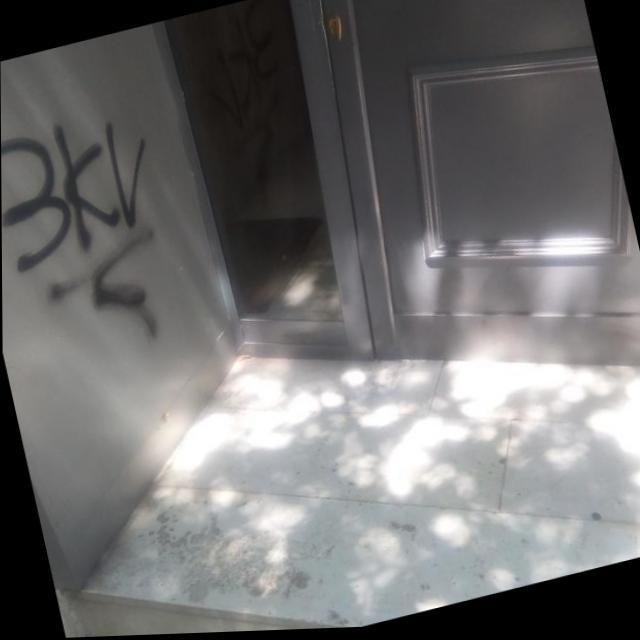-: (1, 102, 190, 373)
